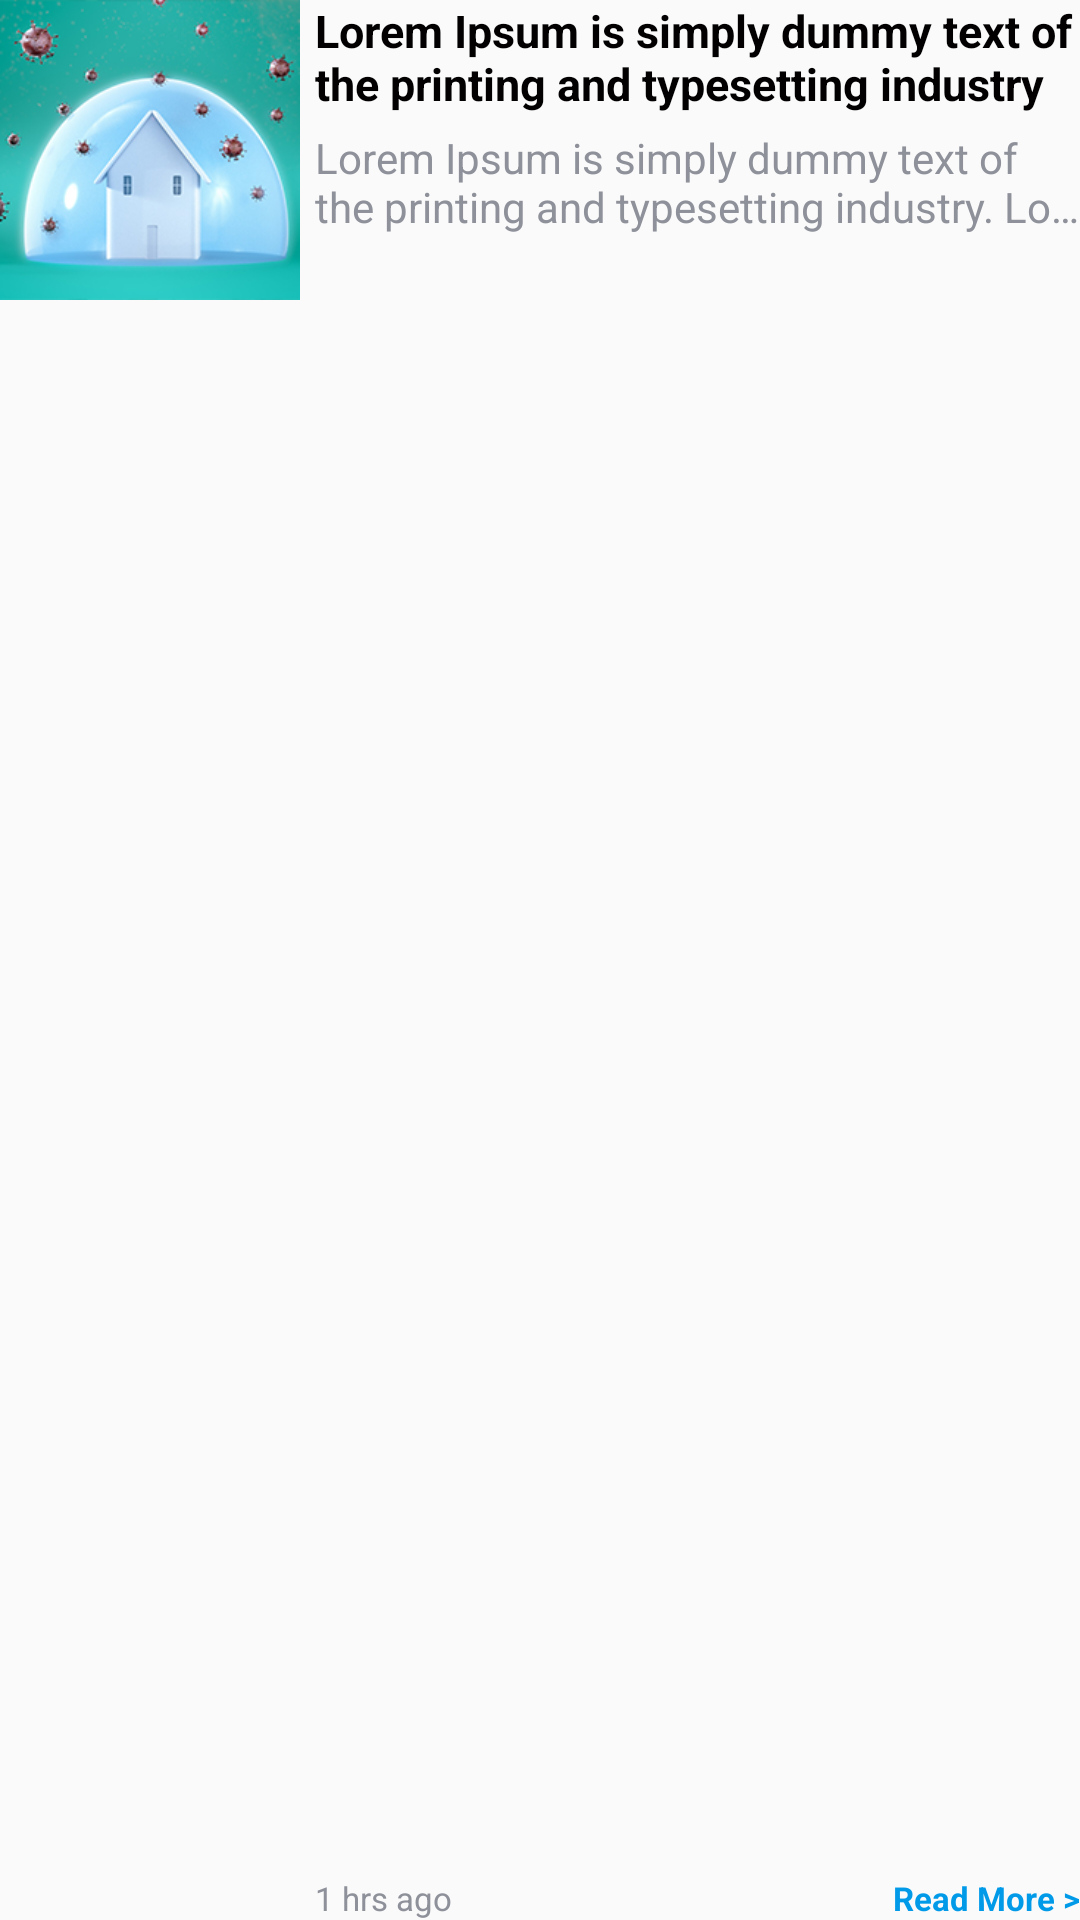

Icon bounding boxes for this 1080px x 1920px phone screenshot, format (x1, y1, x2, y2):
thumbnail: (0, 0, 300, 300)
